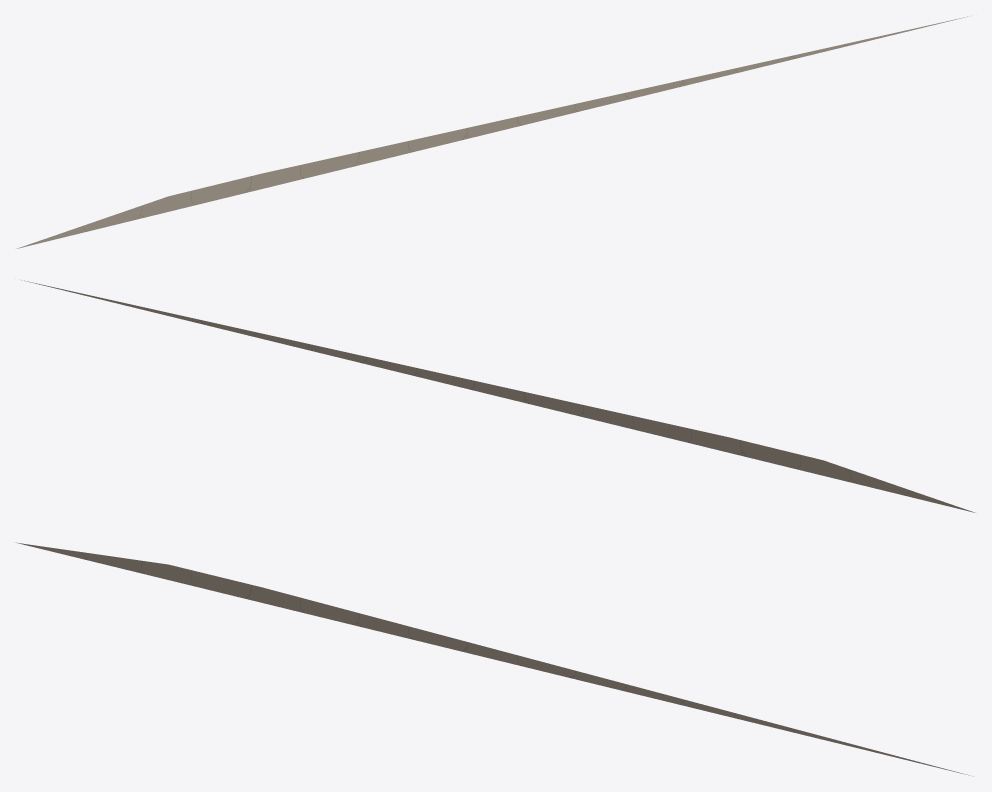
The model's file is kd_stage_135b75_4_159_bounded_portal_piece_3.glb.
3 views of the same model, one above another, from view 1: azimuth 30°, elevation 25°; view 2: azimuth 150°, elevation 25°; view 3: azimuth 330°, elevation 25° (orthographic).
Parts seen in each view (by area): view 1: kd_stage_135b75_4_159_bounded_portal_piece_3; view 2: kd_stage_135b75_4_159_bounded_portal_piece_3; view 3: kd_stage_135b75_4_159_bounded_portal_piece_3.
Part boxes in pixels (x1,y1,x2,y2): kd_stage_135b75_4_159_bounded_portal_piece_3: (16, 16, 970, 248); kd_stage_135b75_4_159_bounded_portal_piece_3: (21, 280, 975, 512); kd_stage_135b75_4_159_bounded_portal_piece_3: (16, 542, 972, 776).
Size of the model in its own units: 3.61 by 0.0557 by 0.
Materials: 1 (1 with a texture image).
